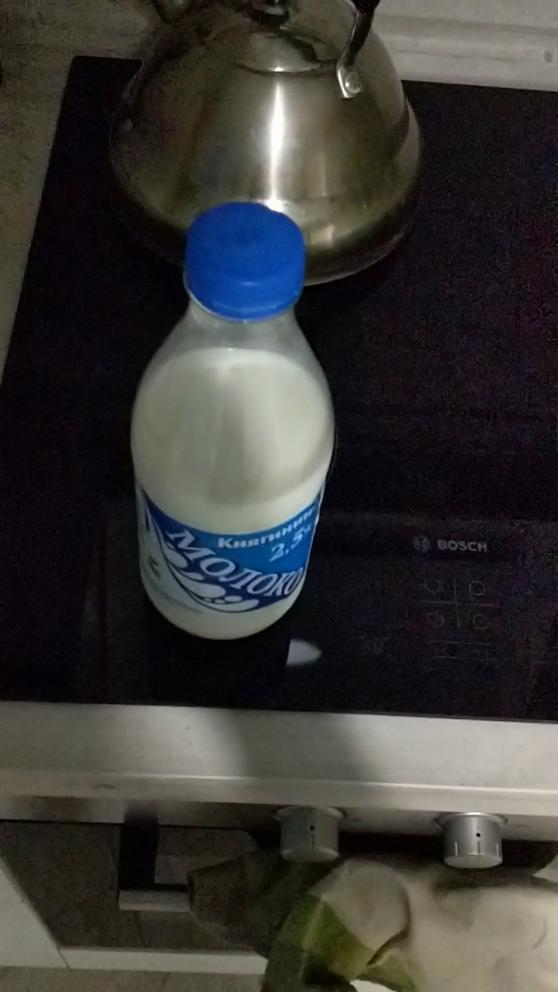milk: (112, 192, 350, 649)
